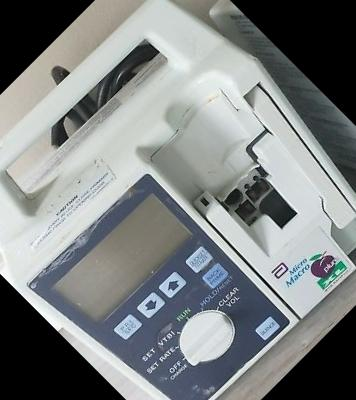plumxl1: (4, 7, 355, 398)
